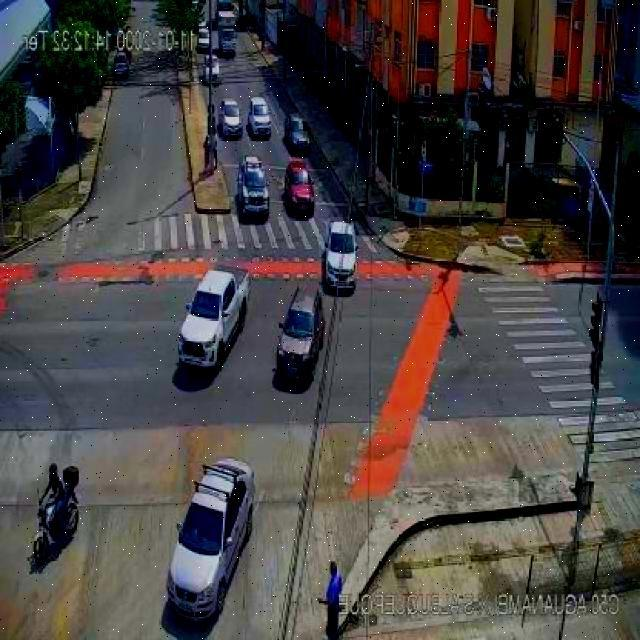Car: (164, 456, 254, 623), (275, 284, 326, 384), (323, 222, 358, 292), (237, 156, 270, 218), (283, 160, 315, 215), (284, 114, 310, 153), (247, 97, 272, 137), (219, 99, 243, 138), (202, 54, 220, 84), (112, 51, 130, 80), (197, 24, 210, 53)
Truck: (176, 264, 250, 370)
